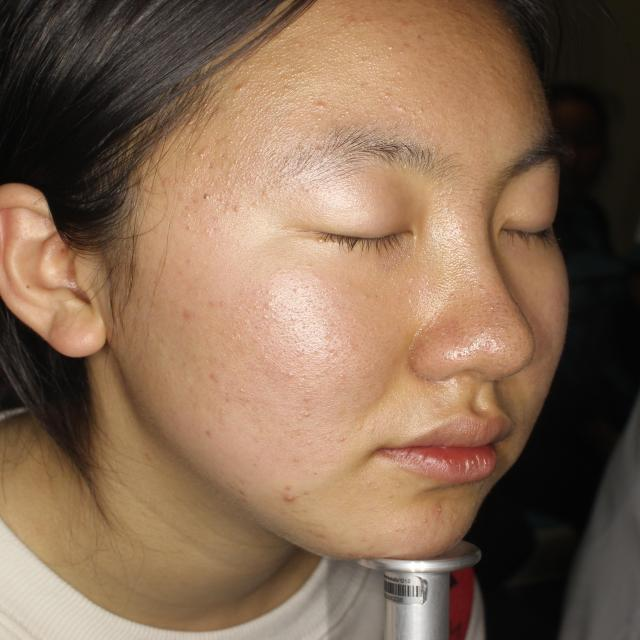acne: (273, 486, 306, 516)
